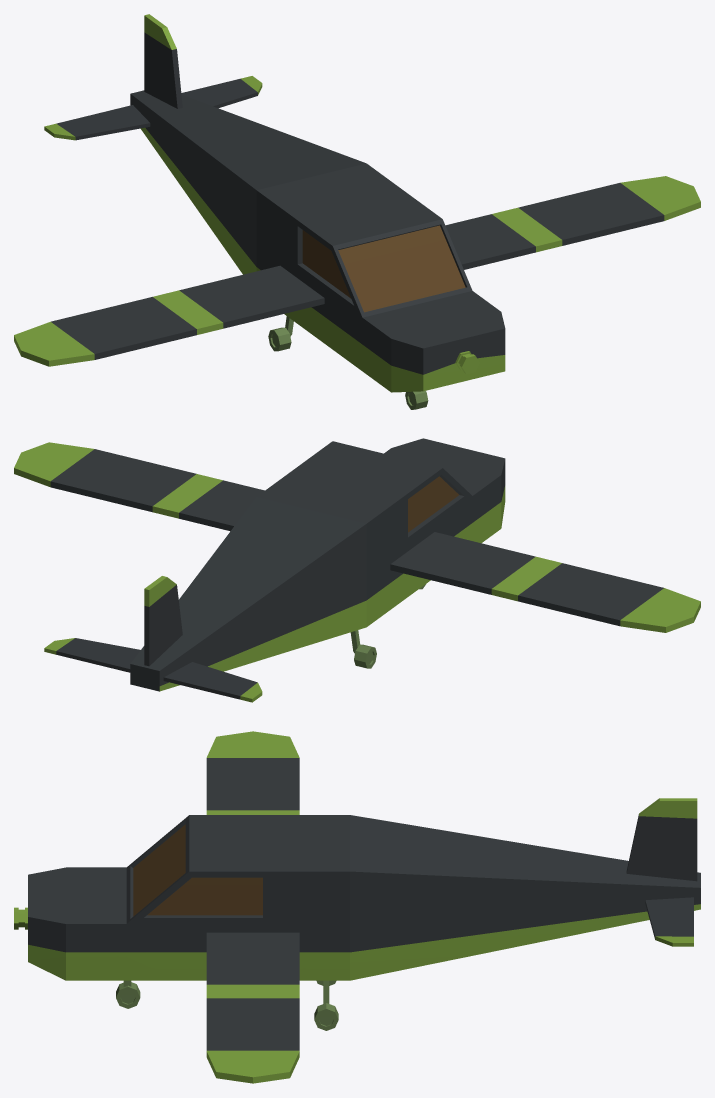
3 renders of one model, top to bottom at view 1: azimuth 30°, elevation 25°; view 2: azimuth 150°, elevation 25°; view 3: azimuth 270°, elevation 25°, orthographic. The views are drawn at different scales.
Visible parts, largest first — view 1: Plane_04; view 2: Plane_04; view 3: Plane_04.
Part boxes in pixels (box(x1,y1,x2,y2)): Plane_04: box(14, 14, 700, 409); Plane_04: box(14, 438, 700, 702); Plane_04: box(14, 731, 700, 1083).
Size of the model in its own units: 9.27 by 2.58 by 7.78.
